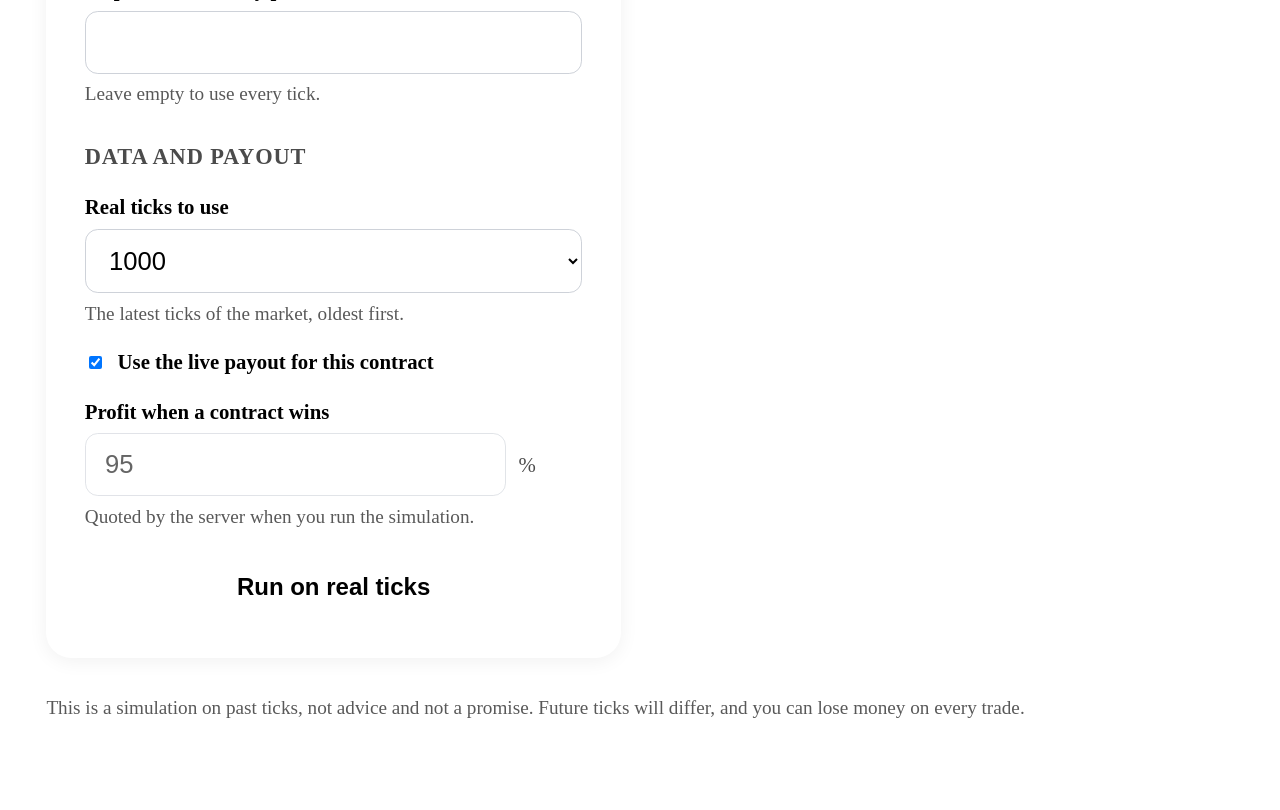
Test: <BulkTrader /> › settles every contract on the ticks and shows the win rate next to break-even
The width and height of the screenshot is (1280, 810).
(page scrolled)
Click the button with test id "dt_bulk_run": coordinates (334, 587) top-left (85, 554), bottom-right (582, 620)
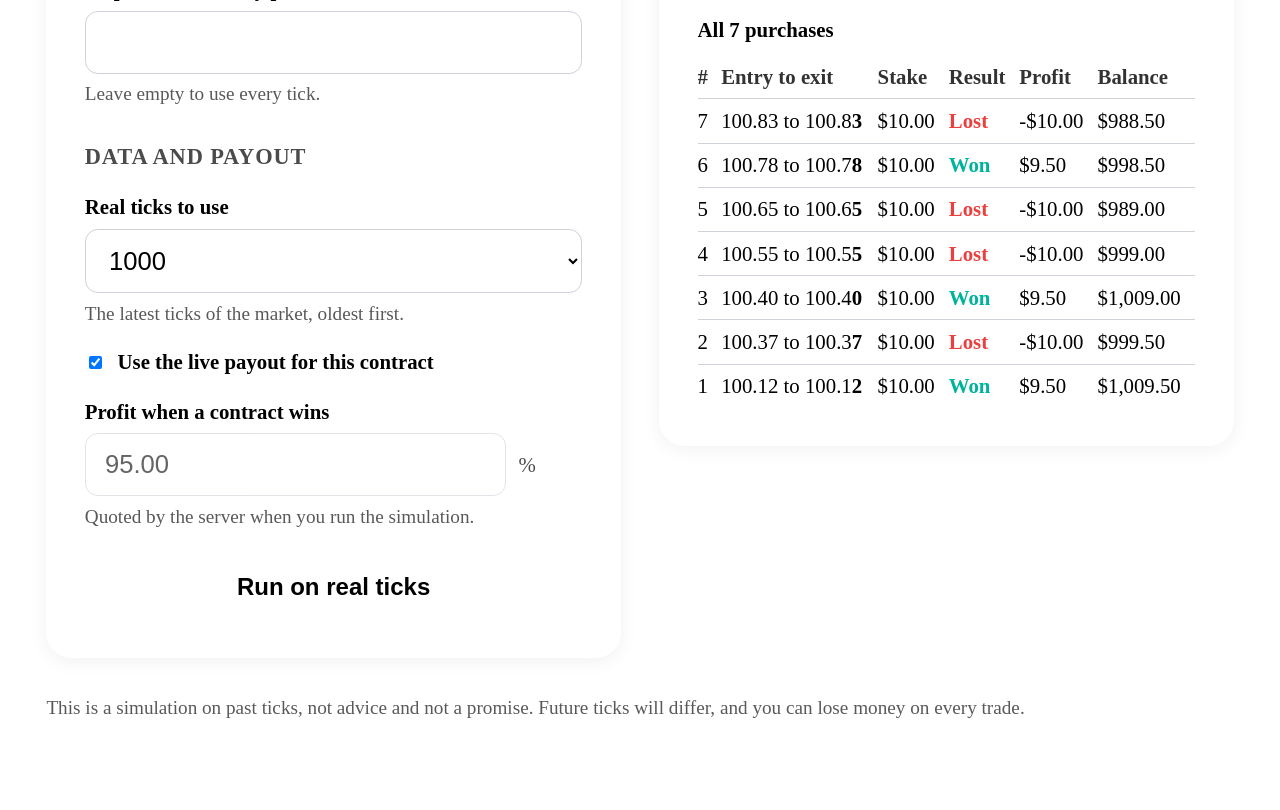
Expected: the table with test id "dt_bulk_table" is shown, top-left (698, 18), bottom-right (1195, 408)
